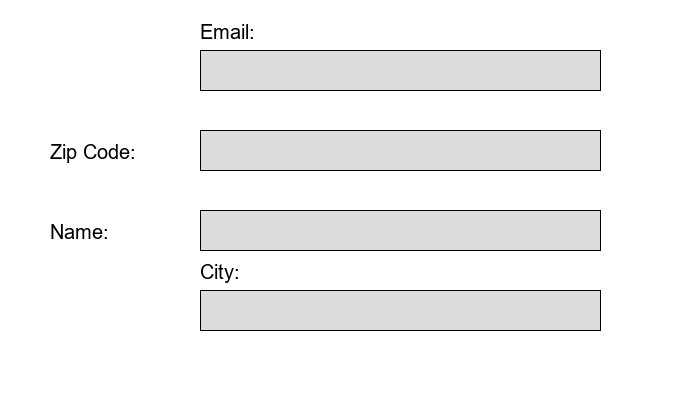Label: (50, 140, 130, 159), (50, 220, 103, 235), (200, 20, 249, 35), (200, 260, 234, 279)
Textbox: (200, 50, 600, 90), (200, 130, 600, 170), (200, 210, 600, 250), (200, 290, 600, 330)
